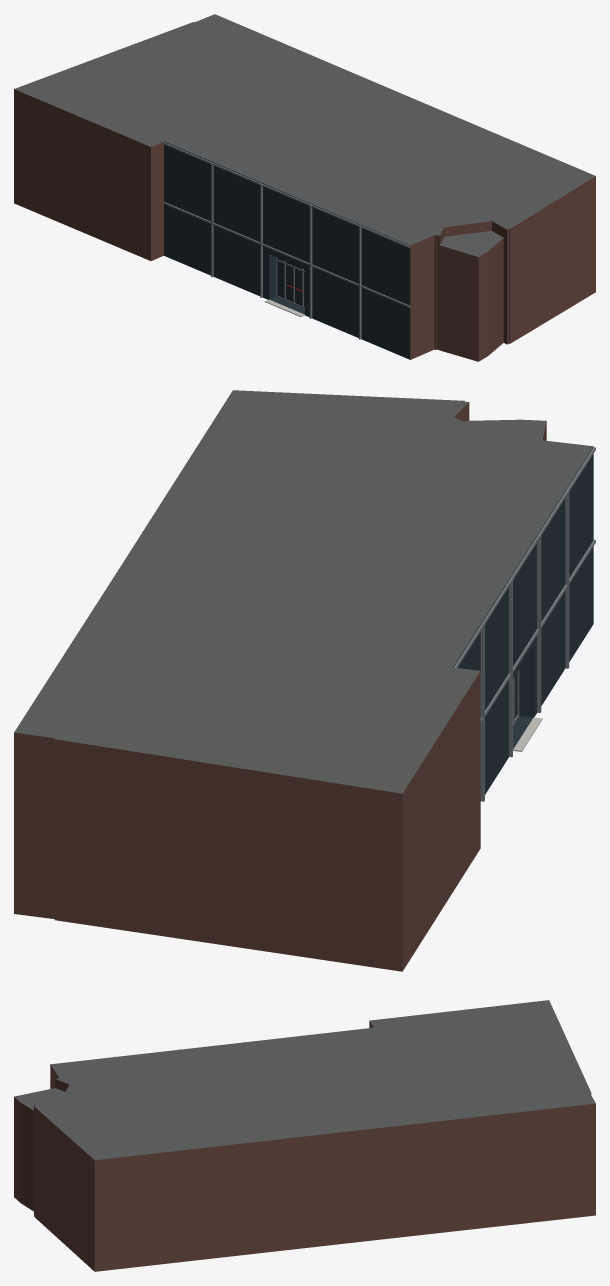
The model's file is recipe-large-politie-zuidoost-gaasperdam.glb.
3 renders of one model, top to bottom at view 1: azimuth 30°, elevation 25°; view 2: azimuth 150°, elevation 25°; view 3: azimuth 270°, elevation 25°, orthographic. The views are drawn at different scales.
Parts seen in each view (by area): view 1: politie-zuidoost-gaasperdam; view 2: politie-zuidoost-gaasperdam; view 3: politie-zuidoost-gaasperdam.
Boxes of the visible parts, box(x1,y1,x2,y2) form: politie-zuidoost-gaasperdam: box(14, 14, 595, 361); politie-zuidoost-gaasperdam: box(14, 390, 595, 971); politie-zuidoost-gaasperdam: box(14, 1000, 595, 1271).
Bounding box in the file's own units: 23.5 × 7.57 × 35.69.
